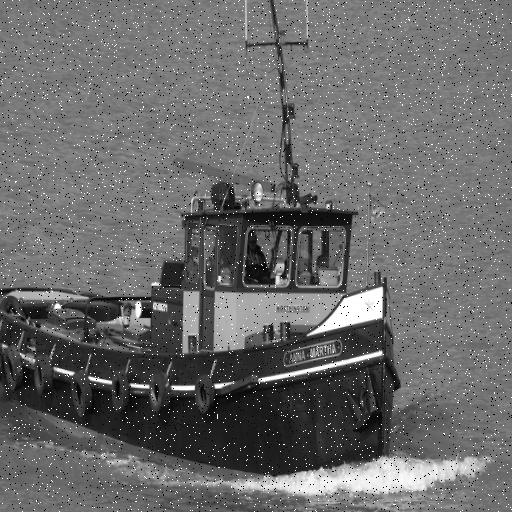tugboat: (1, 162, 405, 506)
